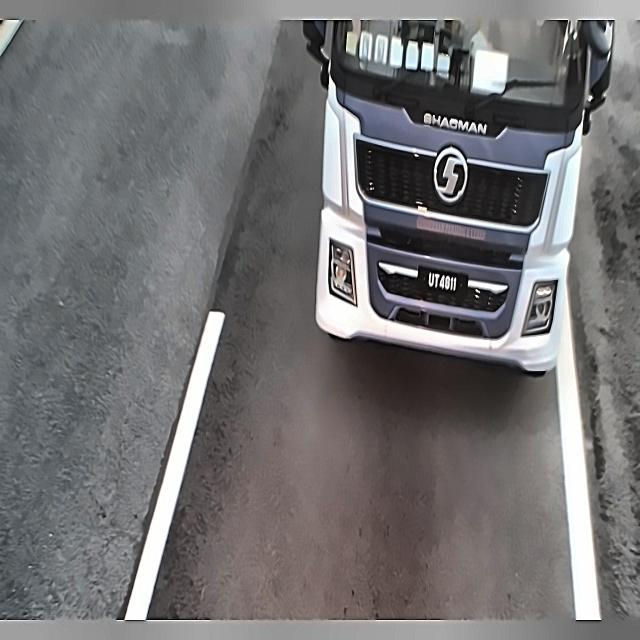car: (416, 260, 469, 304)
